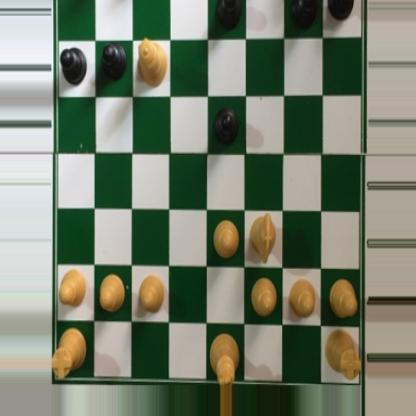black-pawn: (97, 41, 128, 83), (58, 47, 87, 87), (213, 106, 240, 147), (287, 0, 317, 32), (215, 0, 243, 33), (327, 0, 356, 22)
white-king: (208, 327, 241, 386)
white-knight: (247, 211, 277, 263)
white-pawn: (57, 262, 88, 311), (326, 276, 356, 324), (97, 270, 128, 315), (211, 215, 239, 262), (248, 276, 278, 319), (138, 270, 165, 316), (287, 279, 316, 319)
white-queen: (136, 36, 169, 89)
white-rook: (322, 326, 362, 380), (51, 325, 88, 381)
